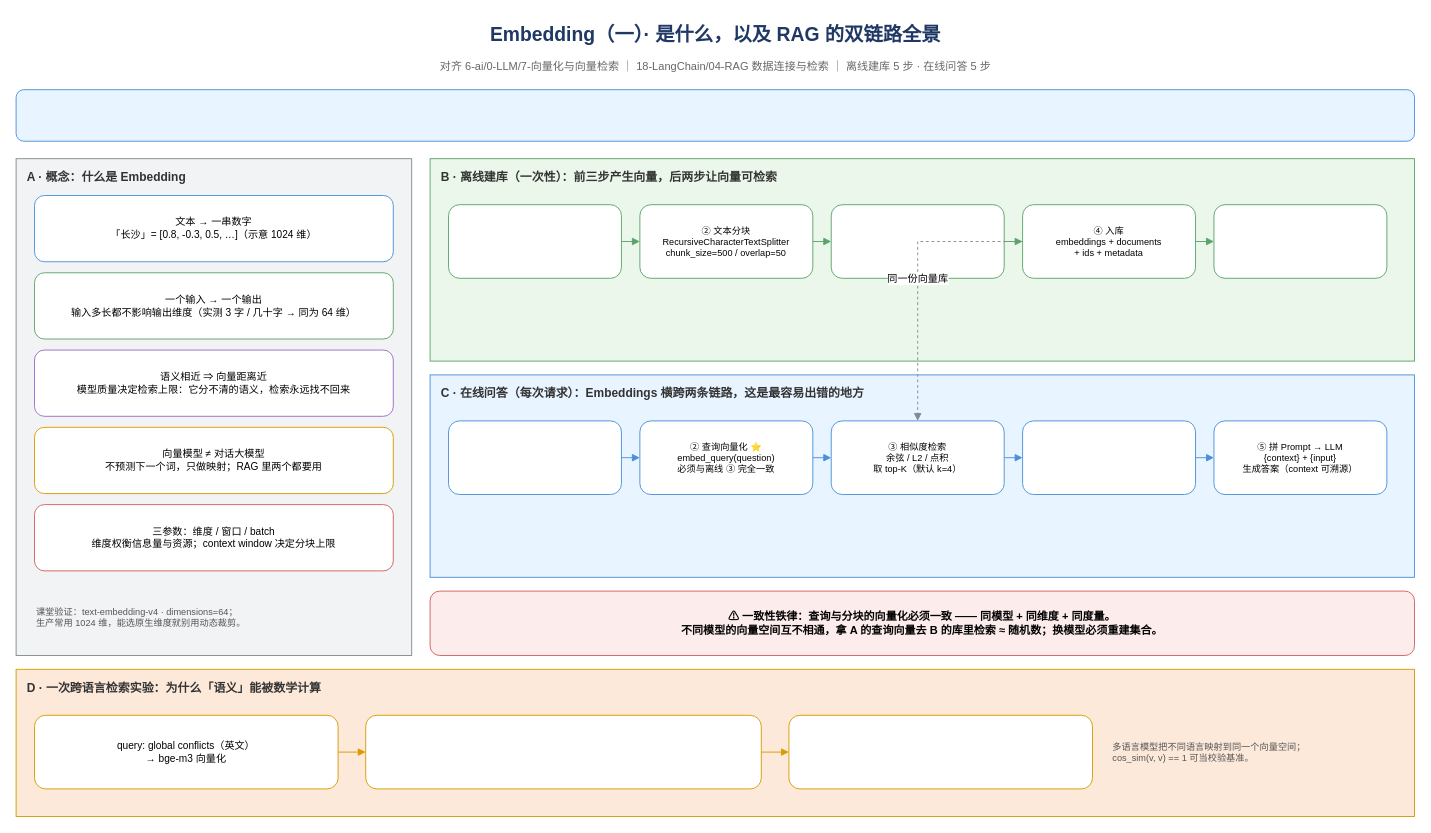
The diagram is 1431 pixels wide and 833 high, and some of its shapes have lost their labels. Each missing label, with the centre of its shape:
"Embedding = 把文本映射为「固定维度的浮点向量」；语义相近的文本在向量空间里距离更近。向量模型负责「变」，向量库负责「存 + 算」。" belongs at point 714,115.
"top-K：国际争端类排最前 生活 / 科研类垫底" belongs at point 940,751.
"① 数据清洗 去噪 / bs4.SoupStrainer 圈正文" belongs at point 534,241.
"① 用户提问 「deepseek 发布了哪些模型？」" belongs at point 534,457.
"③ 向量化 ⭐ embed_documents(chunks) 同一模型 · 同一维度" belongs at point 917,241.
"④ 召回 chunk List[Document] → format_docs 拍平" belongs at point 1109,457.
"⑤ 建索引 HNSW（主流）/ IVF 存得下，更算得动" belongs at point 1300,241.
"中文候选：联合国就苏丹…暴力事件 / 北约谈判 / 水立方游泳 / 空间站实验" belongs at point 563,751.
